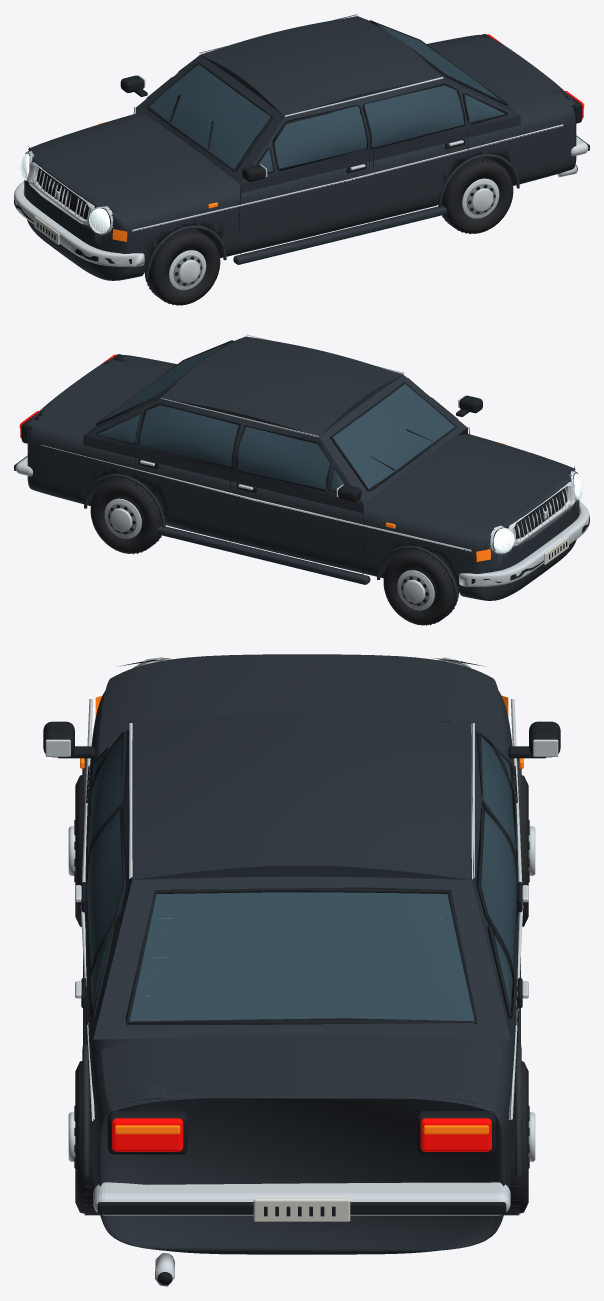
The model's file is volga.glb.
3 renders of one model, top to bottom at view 1: azimuth 30°, elevation 25°; view 2: azimuth 150°, elevation 25°; view 3: azimuth 270°, elevation 25°, orthographic. The views are drawn at different scales.
Parts seen in each view (by area): view 1: Body_Paint_volga, Body_Curved smoked glass.010, Body_Black trim.010, Body_Machined aluminium.010, Wheel_FR_Tyre.010, Wheel_RR_Tyre.010, StockBumpers_Machined aluminium.010, StockSkirts_Paint_volga, StockFenders_Paint_volga, Wheel_RR_Machined aluminium.010, Wheel_FR_Machined aluminium.010, Body_Prismatic headlight glass.010; view 2: Body_Paint_volga, Body_Curved smoked glass.010, Body_Black trim.010, Wheel_FL_Tyre.010, Wheel_RL_Tyre.010, Body_Machined aluminium.010, StockBumpers_Machined aluminium.010, StockSkirts_Paint_volga, StockFenders_Paint_volga, Wheel_RL_Machined aluminium.010, Wheel_FL_Machined aluminium.010, Body_Prismatic headlight glass.010; view 3: Body_Paint_volga, Body_Curved smoked glass.010, Body_Black trim.010, StockBumpers_Machined aluminium.010, Body_Machined aluminium.010, StockBumpers_Black trim.010, Body_Red lens.010, StockFenders_Paint_volga, Body_Numberplate.010, Wheel_RR_Tyre.010, Wheel_RL_Tyre.010, Body_Amber lens.010 (+2 smaller).
Part boxes in pixels (box(x1,y1,x2,y2)): Body_Paint_volga: box(24, 16, 576, 280); Body_Curved smoked glass.010: box(149, 23, 505, 172); Body_Black trim.010: box(28, 20, 582, 240); Body_Machined aluminium.010: box(24, 14, 577, 234); Wheel_FR_Tyre.010: box(144, 229, 220, 305); Wheel_RR_Tyre.010: box(441, 157, 513, 233); StockBumpers_Machined aluminium.010: box(14, 136, 588, 266); StockSkirts_Paint_volga: box(233, 205, 447, 264); StockFenders_Paint_volga: box(145, 154, 519, 279); Wheel_RR_Machined aluminium.010: box(462, 178, 499, 218); Wheel_FR_Machined aluminium.010: box(169, 250, 206, 290); Body_Prismatic headlight glass.010: box(20, 153, 109, 233); Body_Paint_volga: box(27, 336, 579, 600); Body_Curved smoked glass.010: box(97, 344, 454, 491); Body_Black trim.010: box(21, 340, 574, 559); Wheel_FL_Tyre.010: box(383, 549, 458, 625); Wheel_RL_Tyre.010: box(90, 477, 162, 553); Body_Machined aluminium.010: box(41, 334, 578, 554); StockBumpers_Machined aluminium.010: box(15, 456, 589, 586); StockSkirts_Paint_volga: box(156, 526, 370, 584); StockFenders_Paint_volga: box(84, 474, 458, 599); Wheel_RL_Machined aluminium.010: box(104, 498, 141, 538); Wheel_FL_Machined aluminium.010: box(397, 570, 434, 610); Body_Prismatic headlight glass.010: box(493, 473, 582, 553); Body_Paint_volga: box(84, 654, 518, 1254); Body_Curved smoked glass.010: box(87, 736, 516, 1023); Body_Black trim.010: box(43, 658, 560, 1285); StockBumpers_Machined aluminium.010: box(93, 1182, 510, 1215); Body_Machined aluminium.010: box(45, 657, 558, 1286); StockBumpers_Black trim.010: box(97, 1202, 506, 1214); Body_Red lens.010: box(112, 1118, 491, 1151); StockFenders_Paint_volga: box(82, 758, 521, 1176); Body_Numberplate.010: box(253, 1198, 350, 1221); Wheel_RR_Tyre.010: box(75, 1061, 98, 1214); Wheel_RL_Tyre.010: box(505, 1061, 528, 1214); Body_Amber lens.010: box(80, 695, 523, 1134).
Size of the model in its own units: 4.74 by 1.49 by 2.14.
